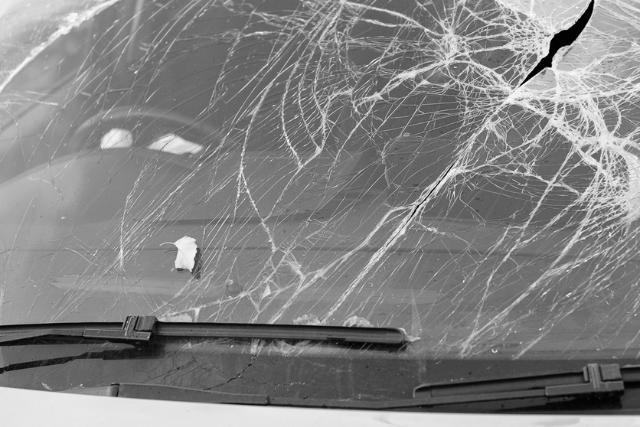Windshield: (3, 2, 640, 427)
